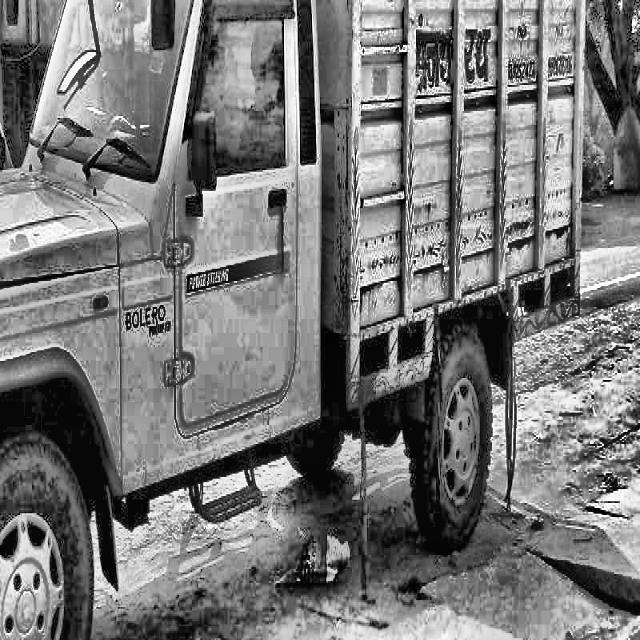light_vehicle: (0, 0, 591, 638)
